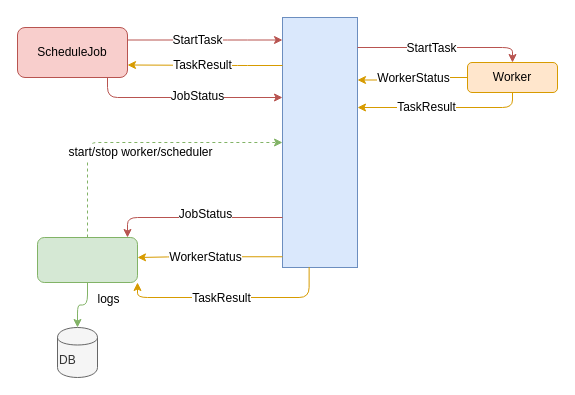
Image size: 575x395. Some labels were removed from this diagram. The shapes that lost their labels are listed below. From the top down, each one's centre as x and y in pixels, then its label:
At point (320, 142): "MQ".
At point (87, 259): "Admin Server".
